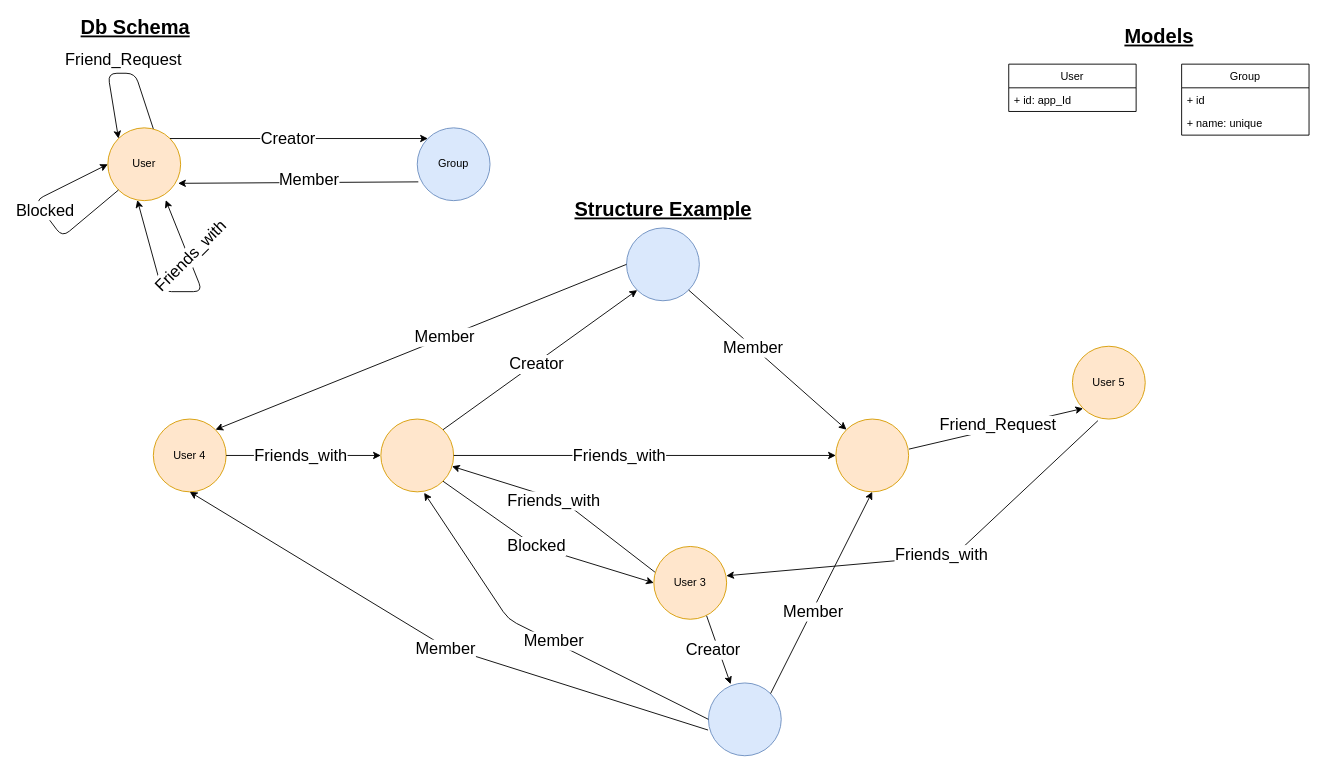
Some shapes in this 1325 by 772 pixel diagram are drawn without their labels. Each missing label, with the box of its shape:
Group 1: (626, 227, 699, 301)
Group 2: (708, 682, 781, 756)
User 1: (380, 418, 454, 492)
User 2: (835, 418, 909, 492)
